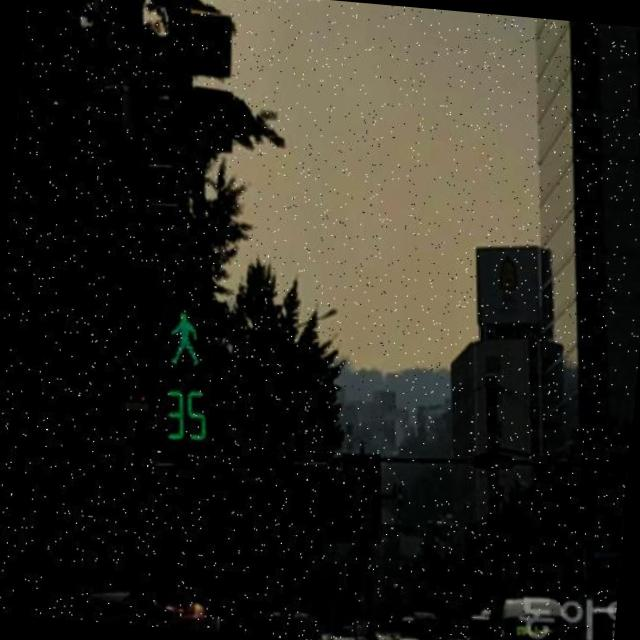green_light: (142, 296, 226, 452)
